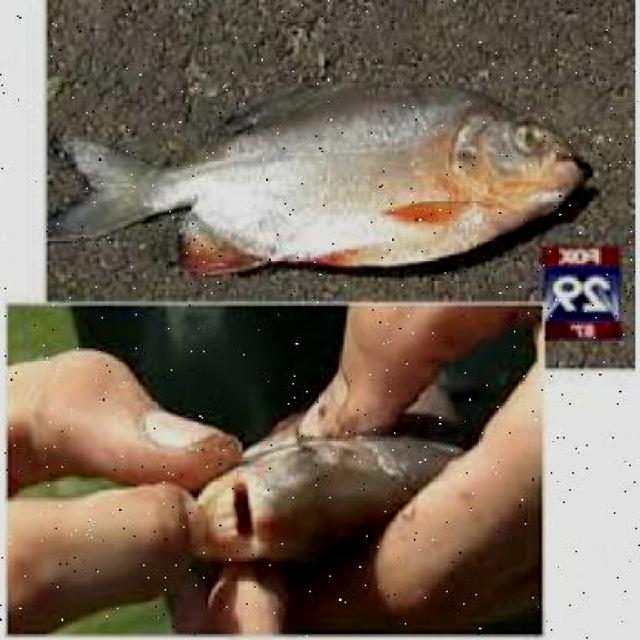ikan-pacu: (68, 70, 584, 278)
